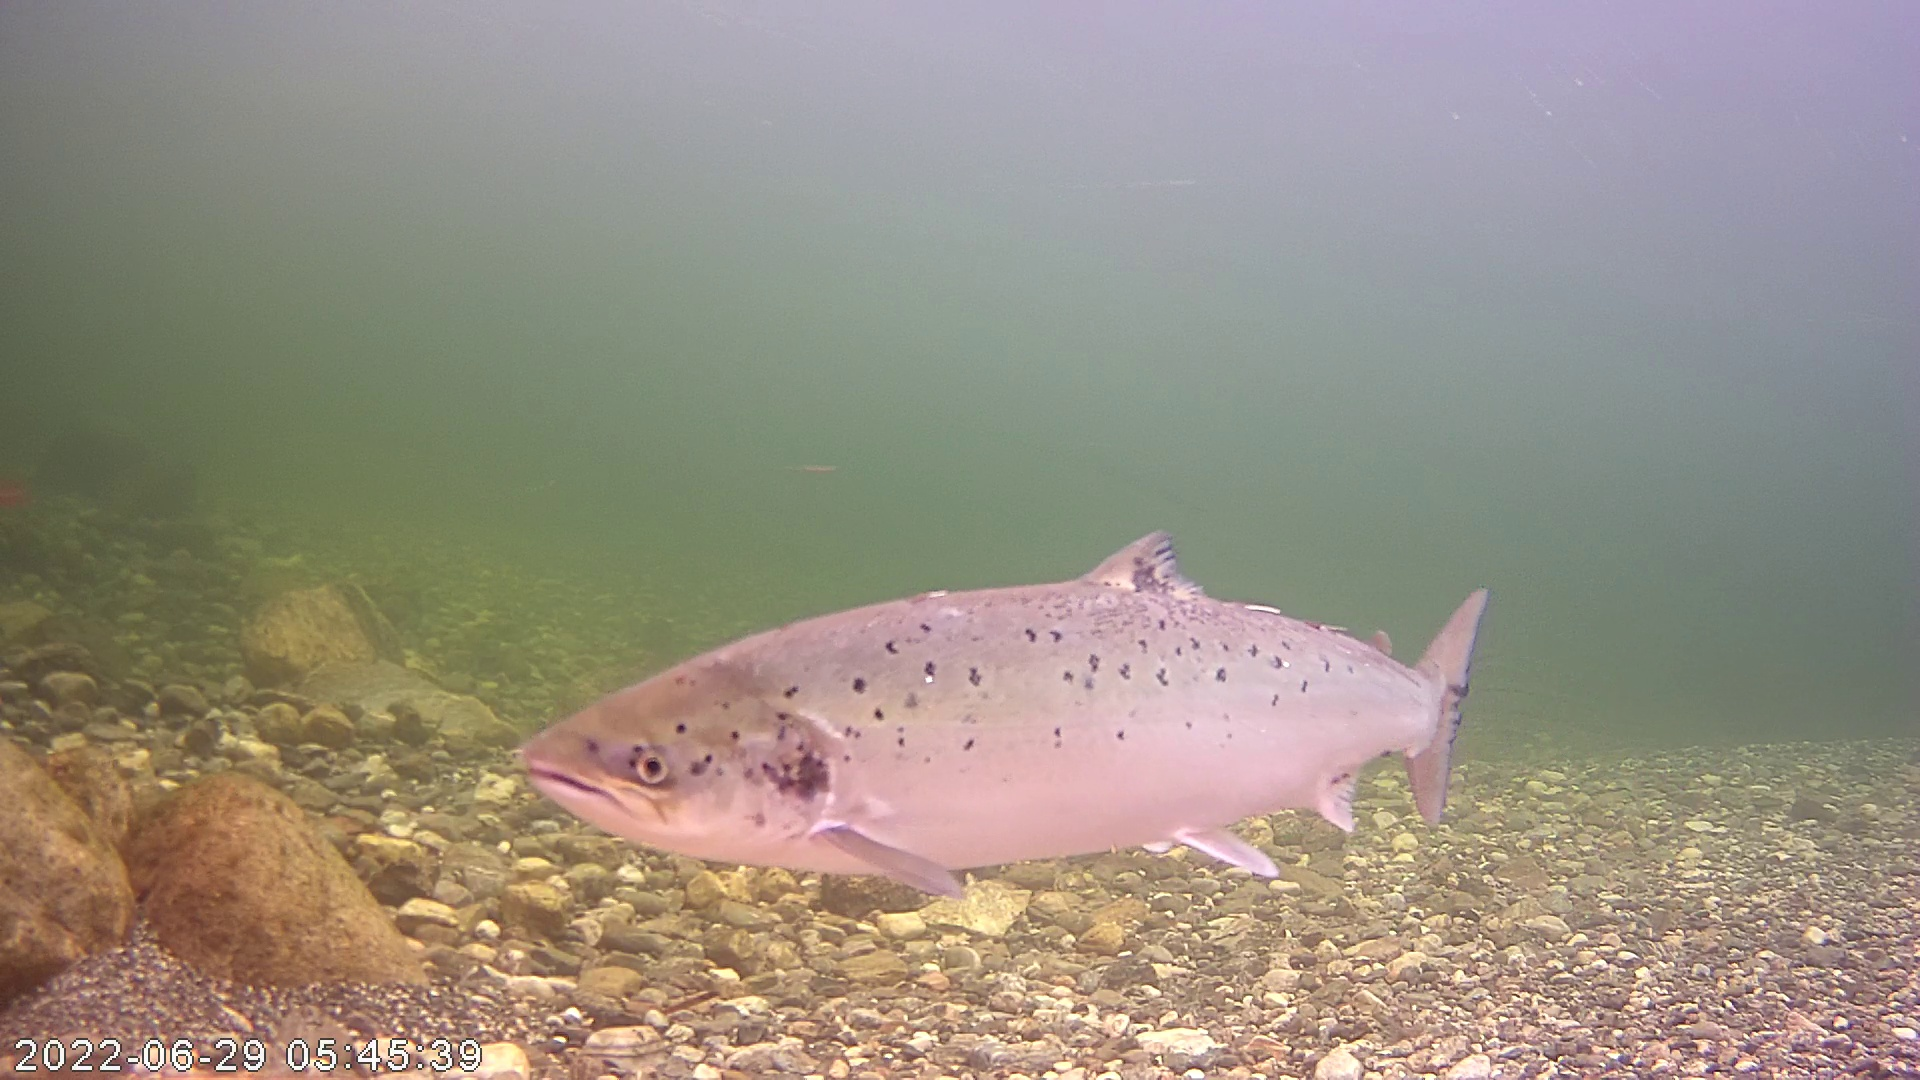salmon: (526, 440, 1493, 887)
